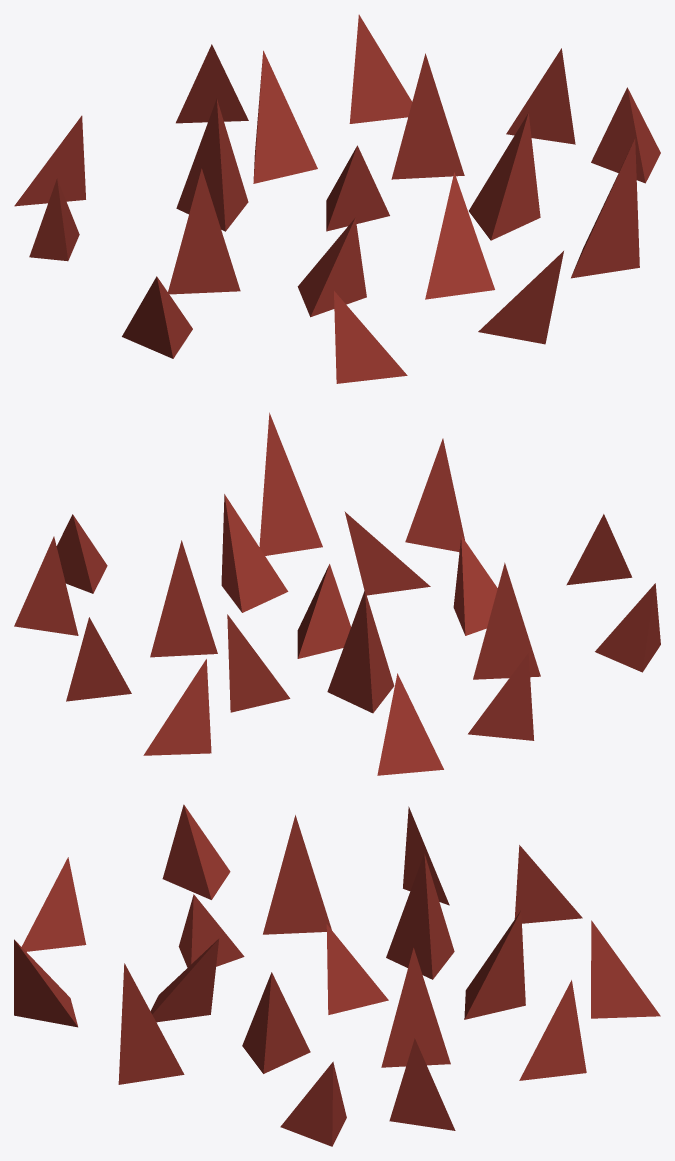
Rendered from Grass_3_Red.fbx.
The picture shows the model from 3 angles, top to bottom: view 1: azimuth 30°, elevation 25°; view 2: azimuth 150°, elevation 25°; view 3: azimuth 270°, elevation 25°; orthographic projection. The views are drawn at different scales.
Visible parts, largest first — view 1: Grass_3_Red; view 2: Grass_3_Red; view 3: Grass_3_Red.
Part boxes in pixels (x1,y1,x2,y2): Grass_3_Red: [14, 14, 660, 383]; Grass_3_Red: [14, 412, 660, 775]; Grass_3_Red: [14, 804, 660, 1146].
Size of the model in its own units: 32.13 by 6.62 by 31.92.
